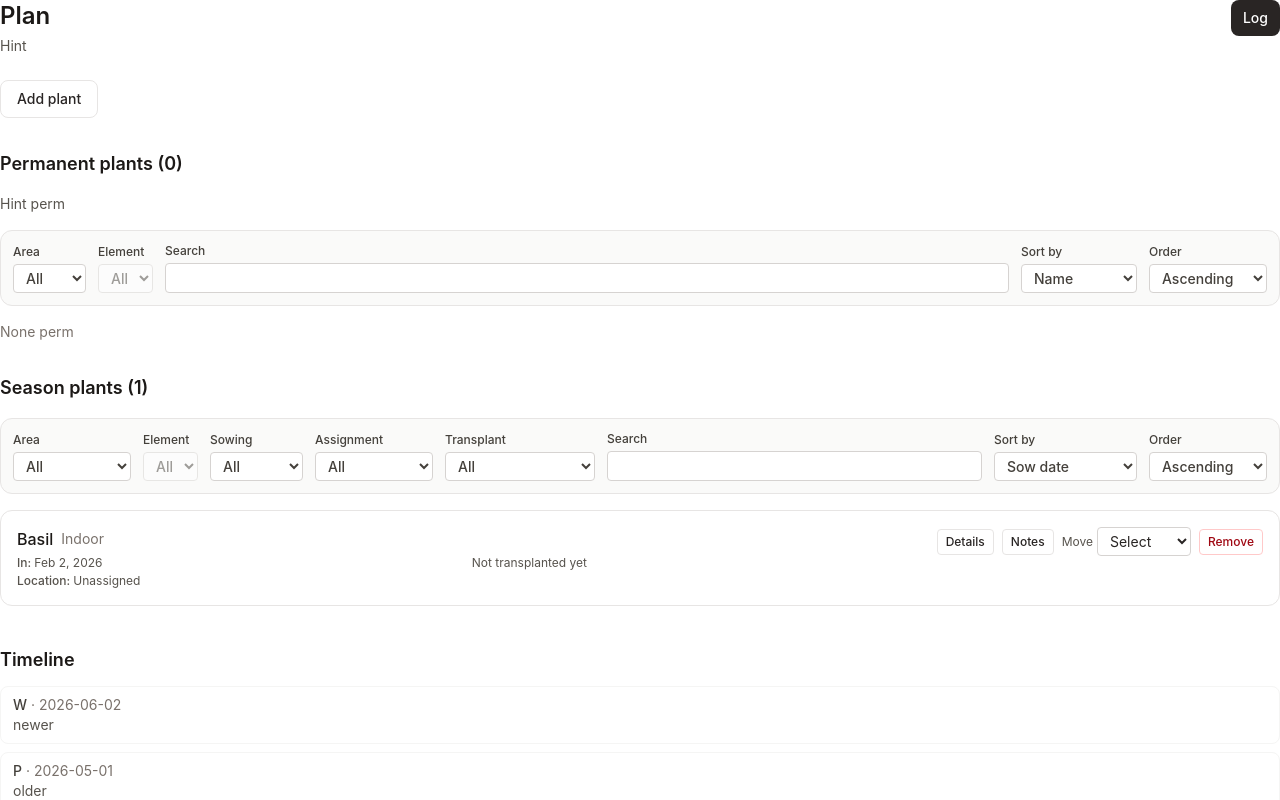
Test: PlantingPlanPage › omits the location row in the indoor detail modal for unassigned plantings
The width and height of the screenshot is (1280, 800).
Click the button with test id "season-plant-name-pl-unassigned" at point(35, 539), box [17,527,53,551]
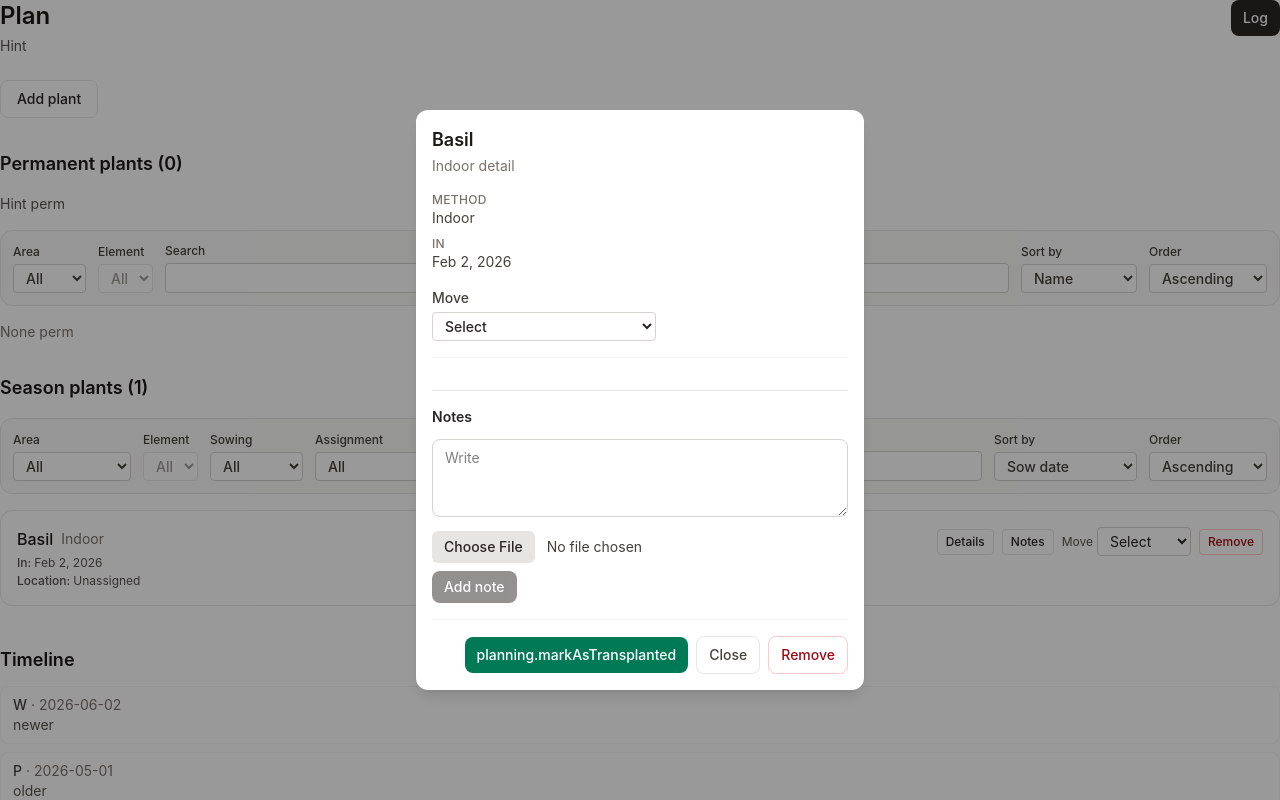
Expected: the dialog with test id "indoor-planting-detail-modal" is shown
